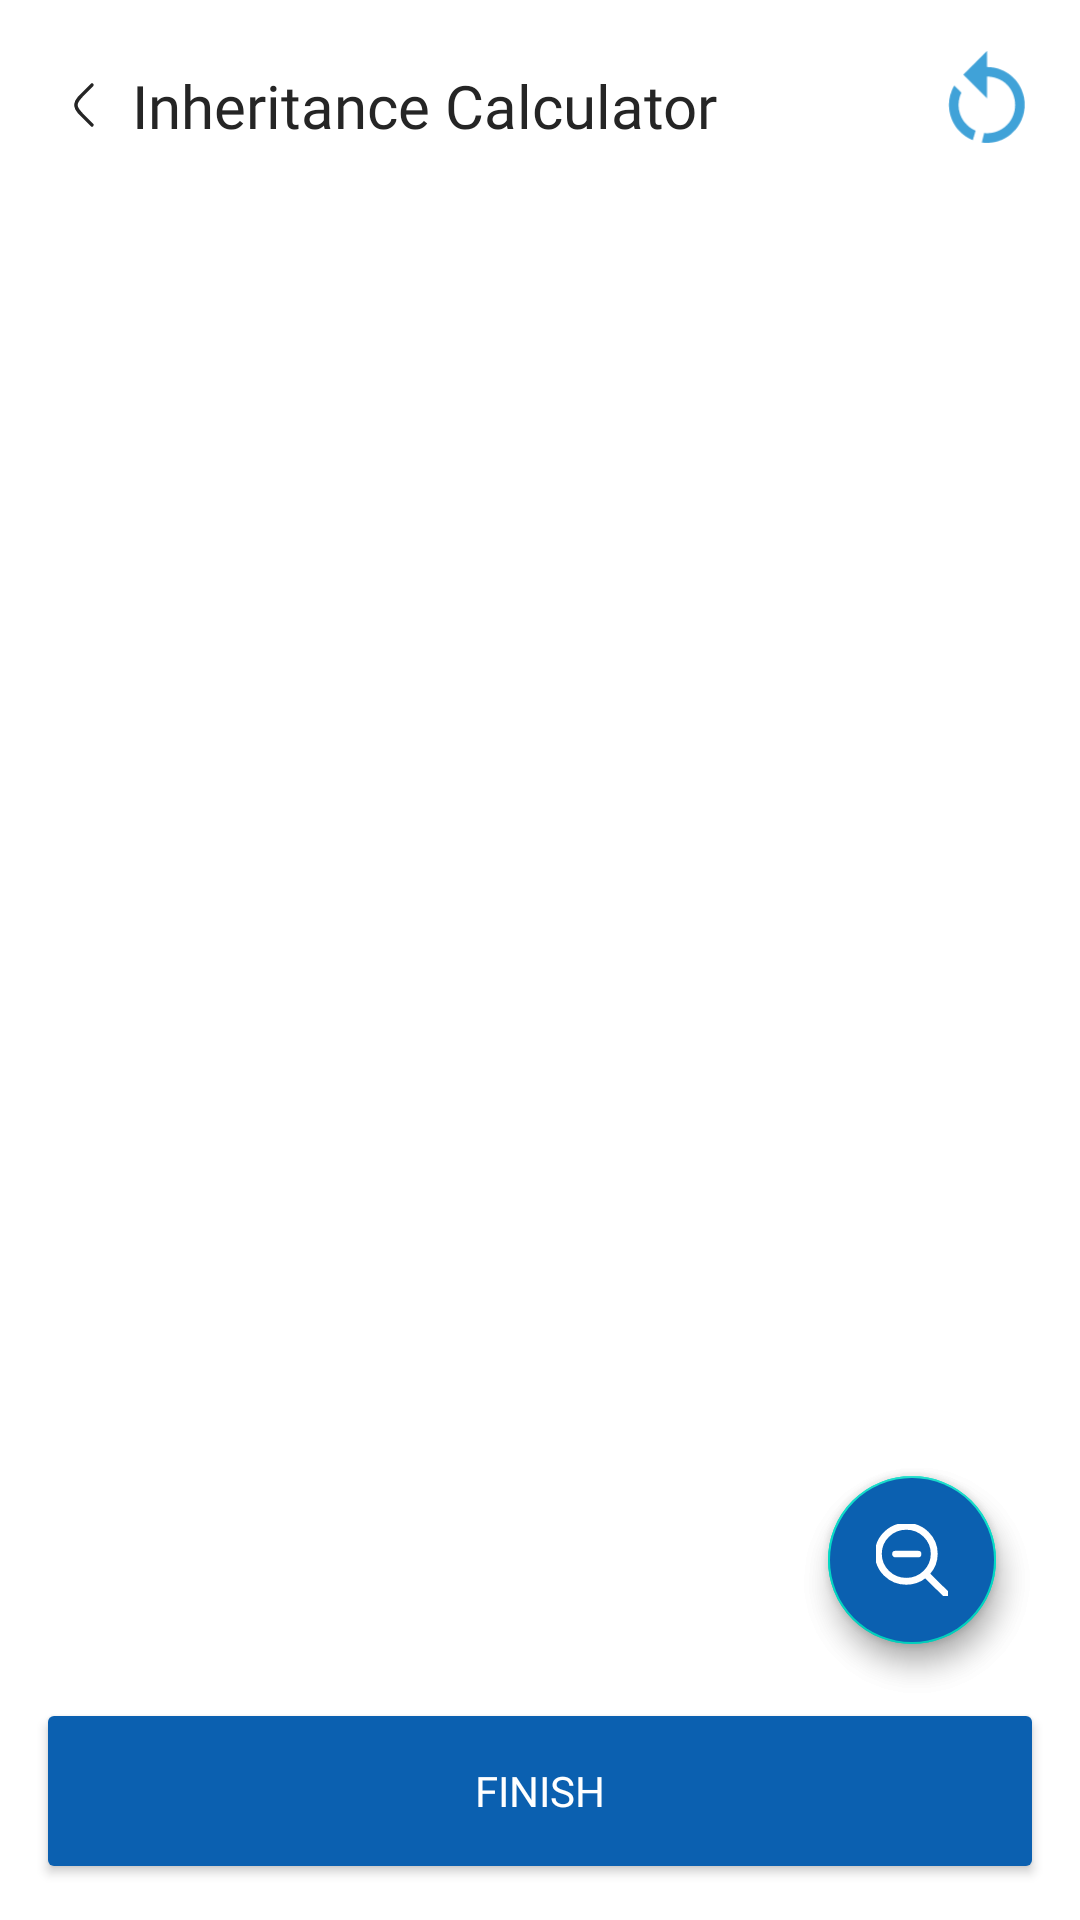

Point at icon controls on the screen. Image size 1080x1920, points as point (x, y).
left: point (84, 105)
restart: point (986, 97)
